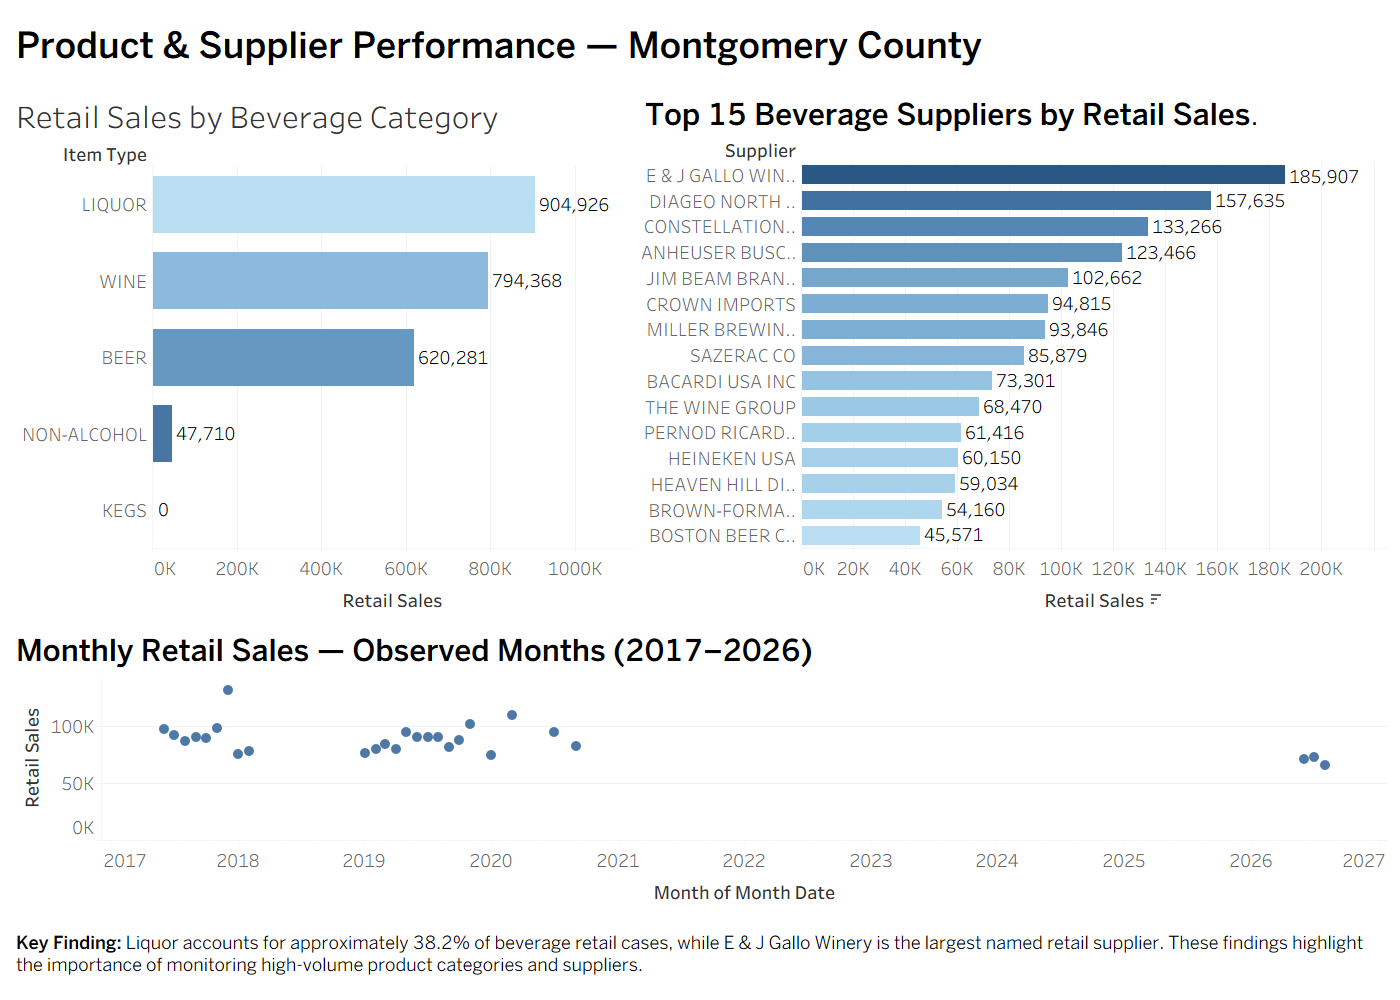

The dashboard page shown, as its layout file describes it:
{"tool":"tableau","page":{"name":"Dashboard 1 product performance","canvas":[1400,1000],"ordinal":0},"visuals":[{"type":"text","box":[8,8,1384,76.5]},{"type":"worksheet","title":"Sales by Category","mark":"Bar","rows":["ITEM TYPE"],"cols":["RETAIL SALES"],"box":[8,84.5,628.9,538.5]},{"type":"worksheet","title":"Top 15 suppliers","mark":"Automatic","rows":["SUPPLIER"],"cols":["RETAIL SALES"],"box":[636.9,84.5,755.1,538.5]},{"type":"worksheet","title":"Monthly Sales Trend","mark":"Circle","rows":["RETAIL SALES"],"cols":["MONTH DATE"],"box":[8,623,1384,292.4]},{"type":"text","box":[8,915.4,1384,76.6]}]}

Visuals, with their boxes in screenshot pixels (x1, y1, x2, y2), scaled from the page's 1400x1000 canvas onto the 1400x1000 screenshot:
text: l=8, t=8, r=1392, b=84
"Sales by Category" worksheet (Bar marks): l=8, t=84, r=637, b=623
"Top 15 suppliers" worksheet: l=637, t=84, r=1392, b=623
"Monthly Sales Trend" worksheet (Circle marks): l=8, t=623, r=1392, b=915
text: l=8, t=915, r=1392, b=992
